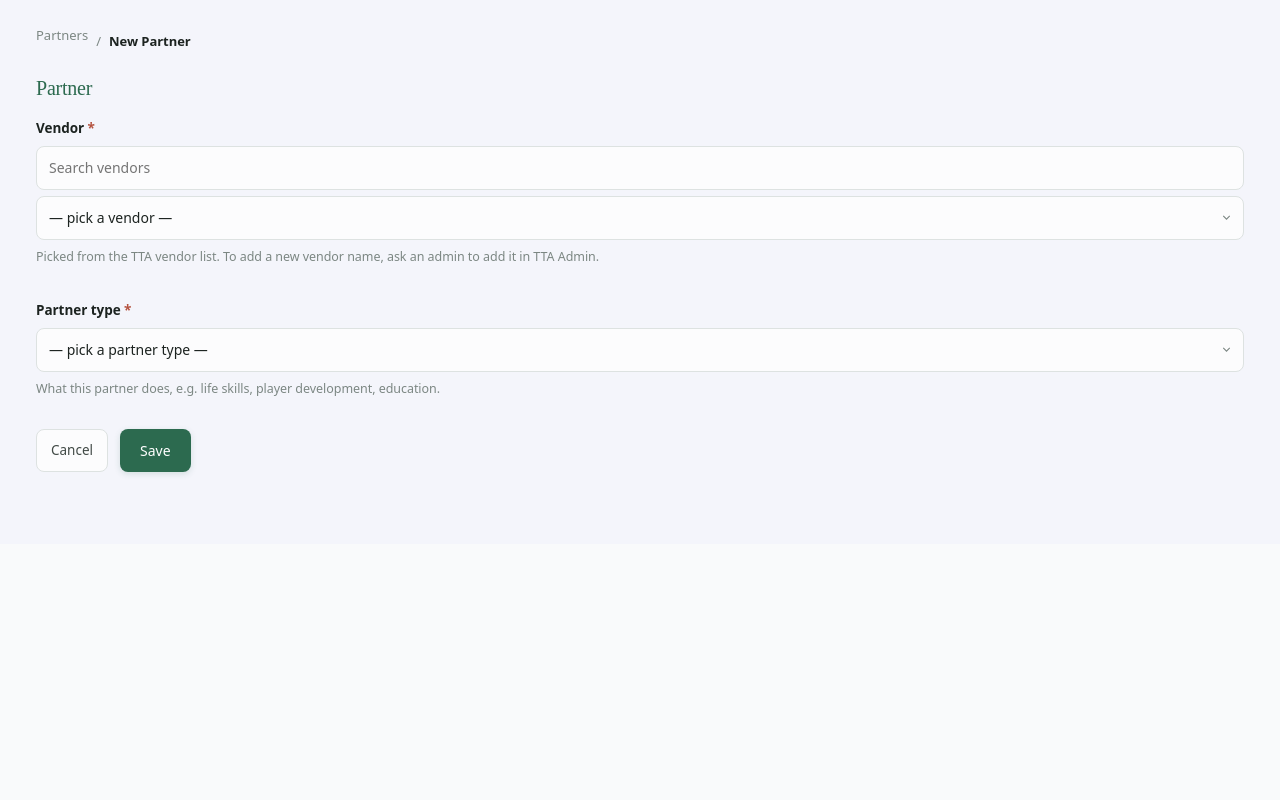
Scenario: adding a partner › no TTA record with that name: only the not-set-up choice, and says so
Select "A1 Classes · Coaching" in the dropdown labelled "Vendor *" at coordinates (640, 218), box [36,196,1244,240]
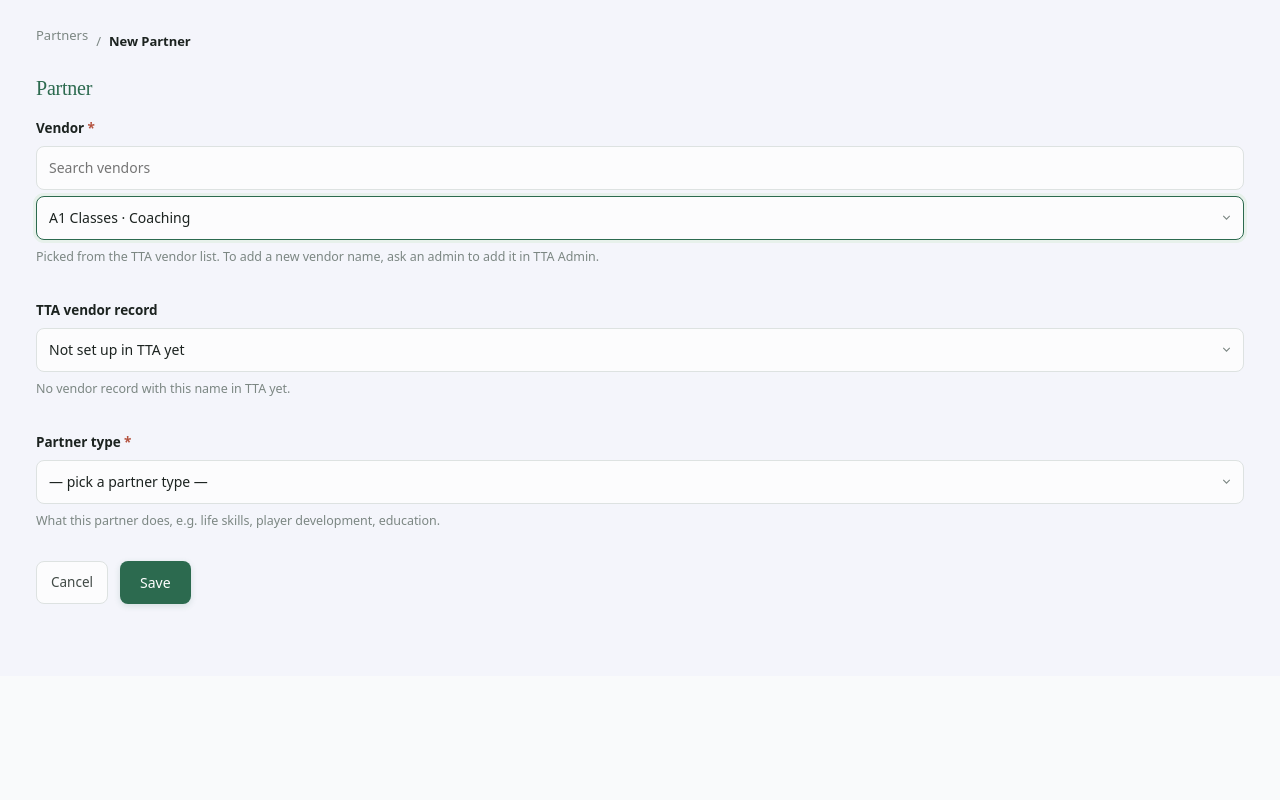
Expected: the text "No vendor record with this name in TTA yet." is shown, [36,380,290,397]
